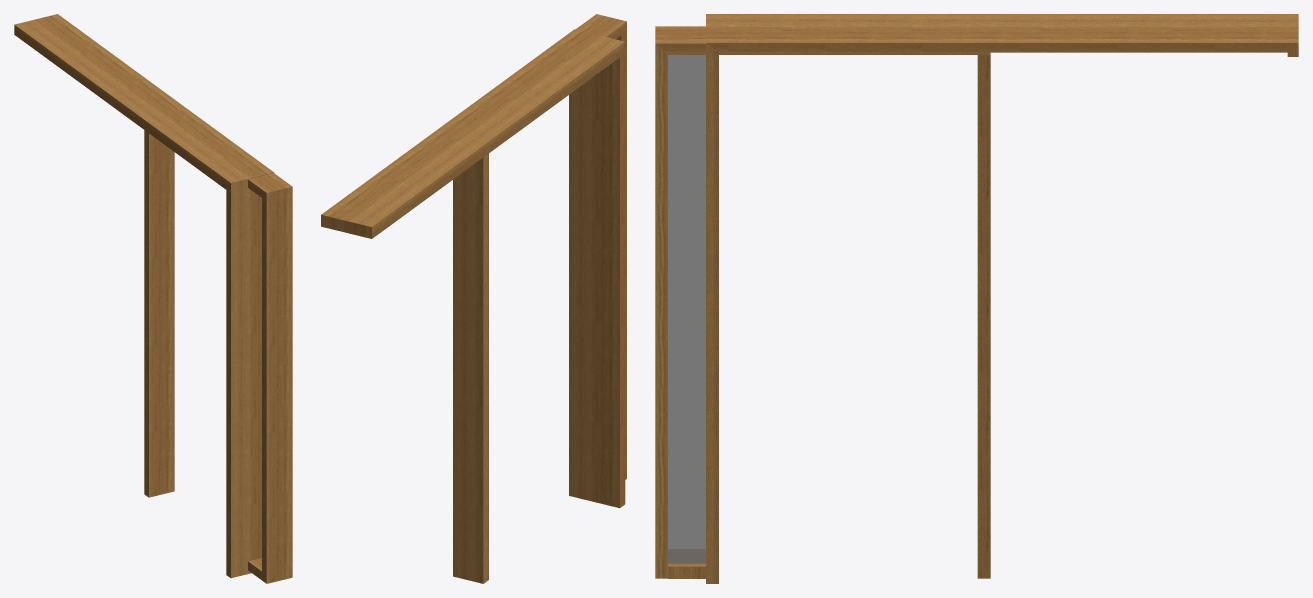
Rendered from door fix.fbx.
3 renders of one model, left to right at view 1: azimuth 30°, elevation 25°; view 2: azimuth 150°, elevation 25°; view 3: azimuth 270°, elevation 25°, orthographic. The views are drawn at different scales.
Parts seen in each view (by area): view 1: Group_595, Object606513; view 2: Group_595, Object606513; view 3: Group_595, Object606512.
Part boxes in pixels (<box>): Group_595: <box>14,14,292,583</box>; Object606513: <box>14,25,266,197</box>; Group_595: <box>321,14,626,583</box>; Object606513: <box>372,21,626,238</box>; Group_595: <box>655,14,1298,583</box>; Object606512: <box>655,43,1287,54</box>.
Size of the model in its own units: 233 by 2029 by 2188.
Materials: 4 (1 with a texture image).
